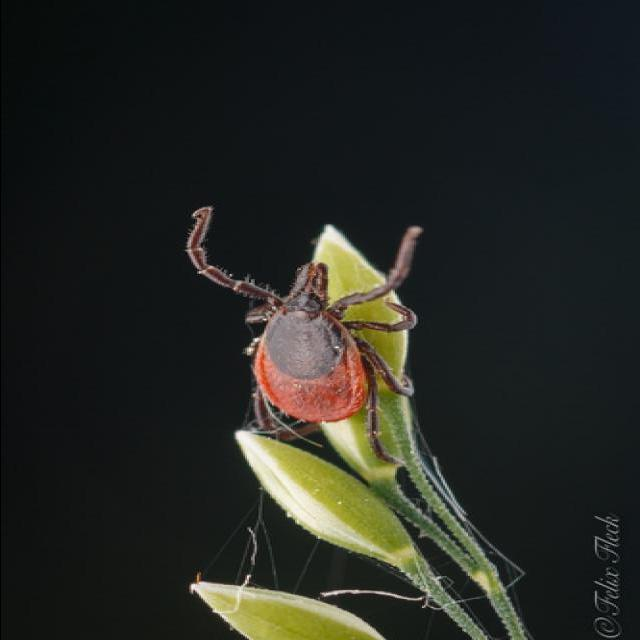Ixodes Ricinus-F: (185, 206, 423, 460)
